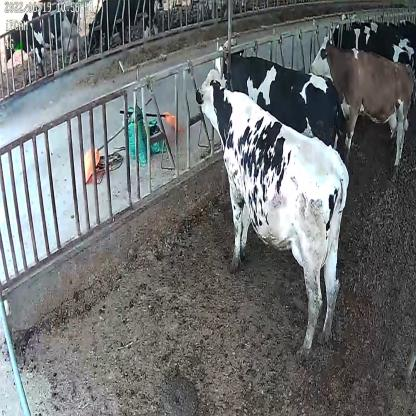cow: (191, 67, 351, 364), (212, 35, 350, 156), (308, 32, 416, 176)
